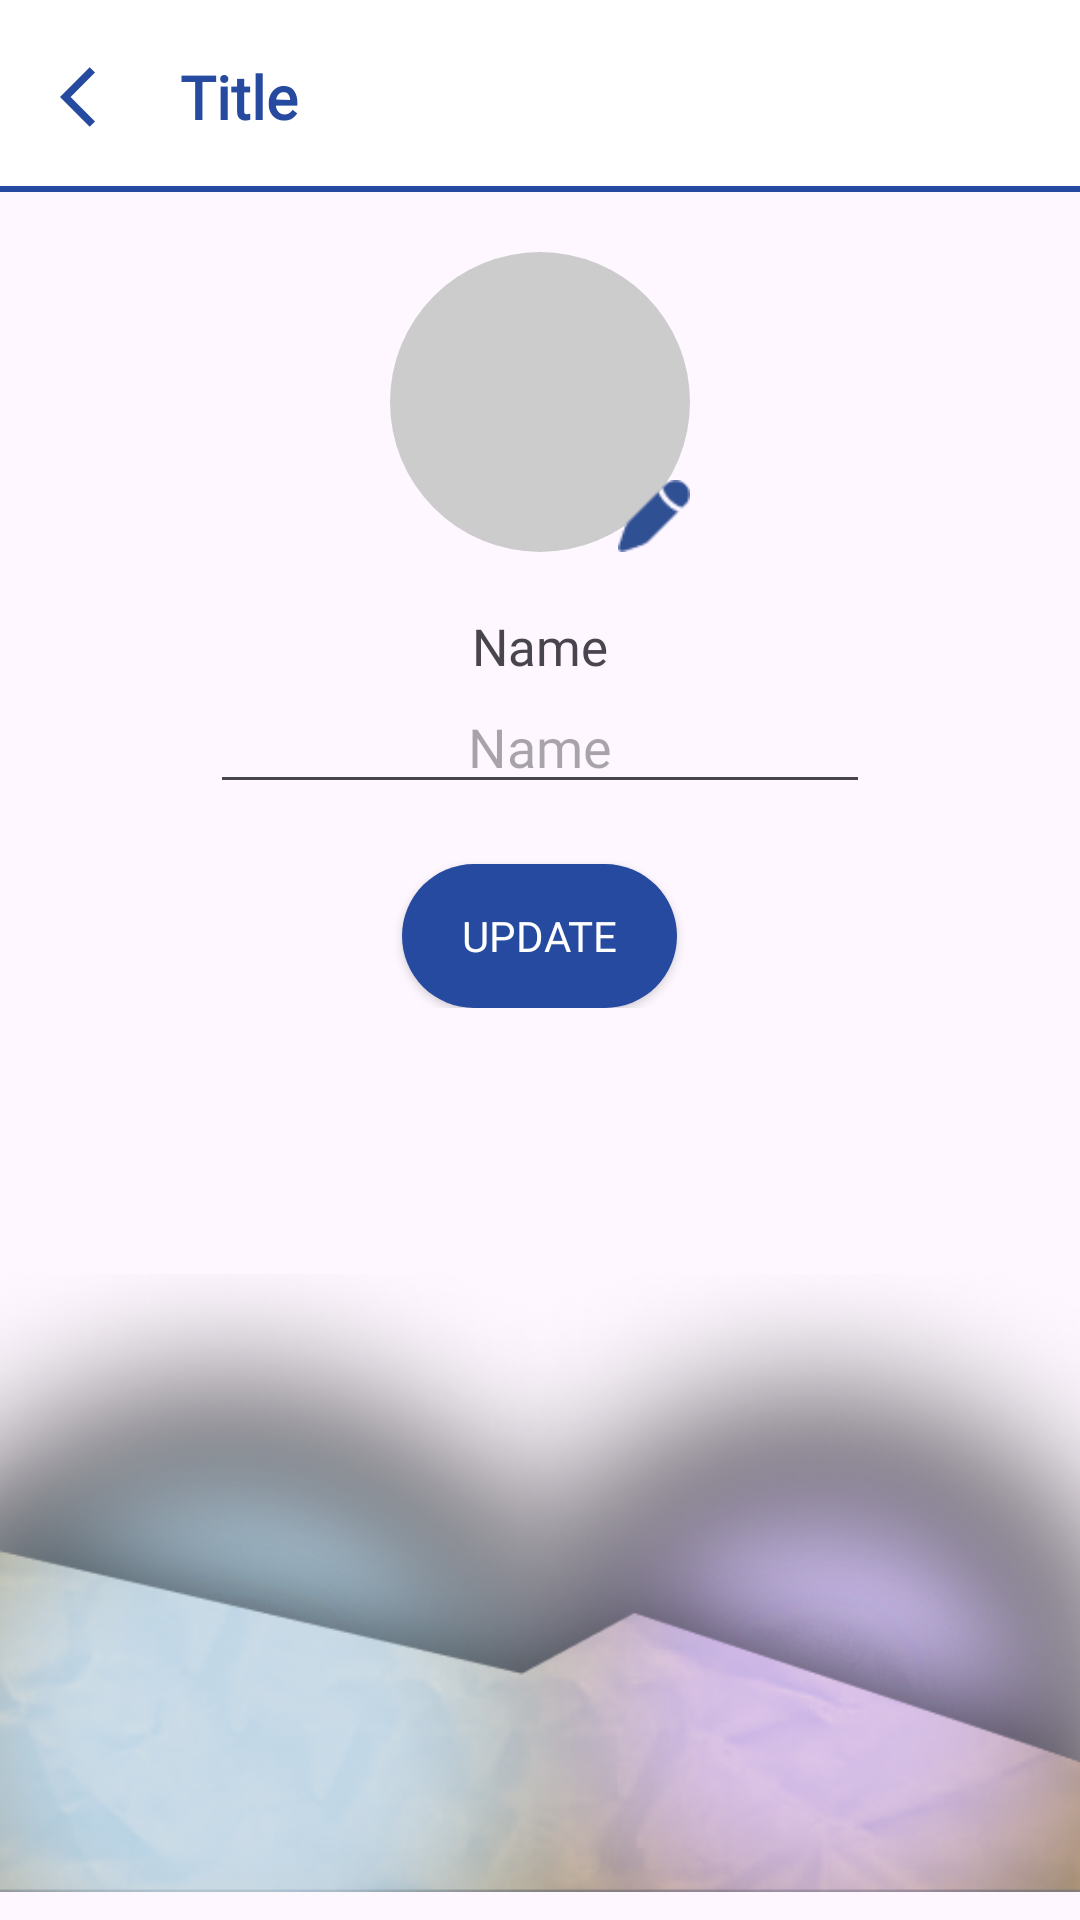

Where icons sit on this 1080 x 1920 app screen, as (x1, y1, x2, y2):
arrow back: (60, 67, 95, 127)
edit: (618, 480, 690, 552)
